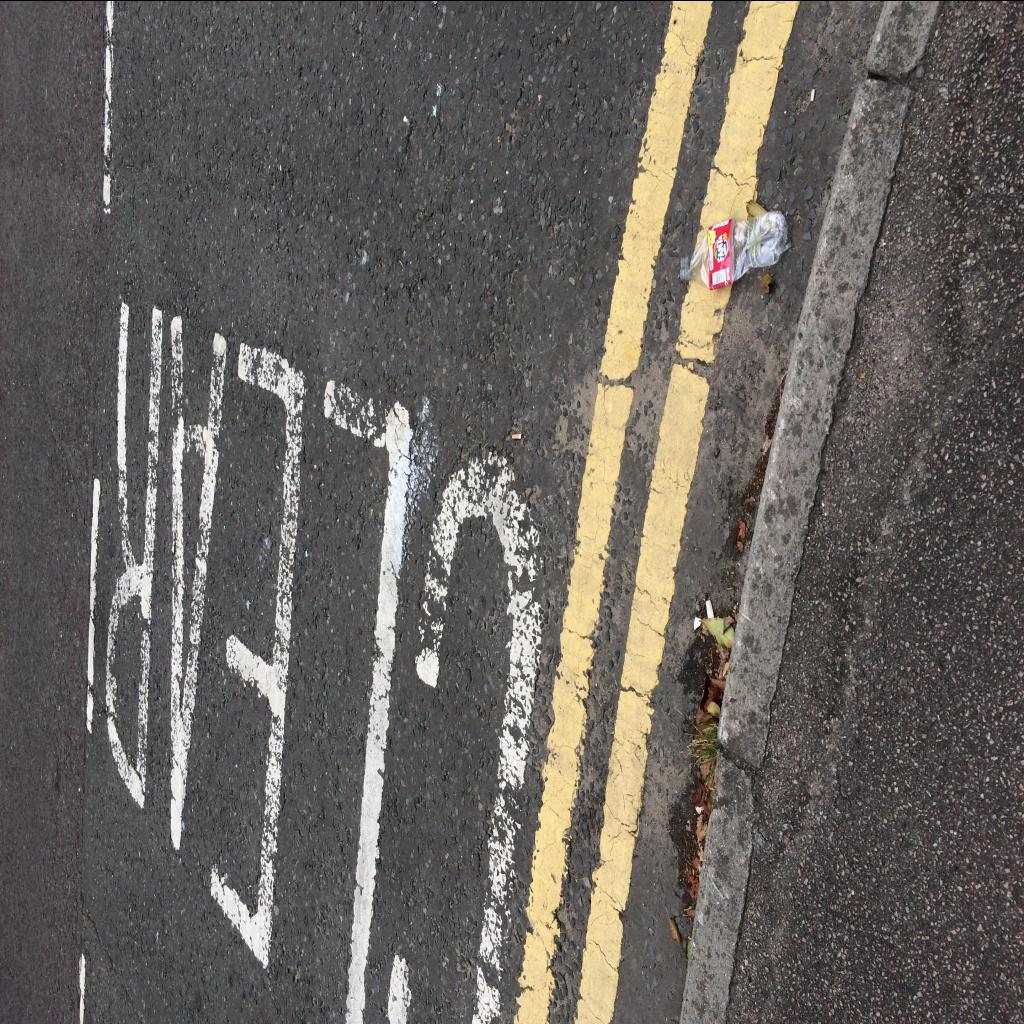Cigarette: (512, 432, 522, 438)
Clear plastic bottle: (680, 210, 792, 290)
